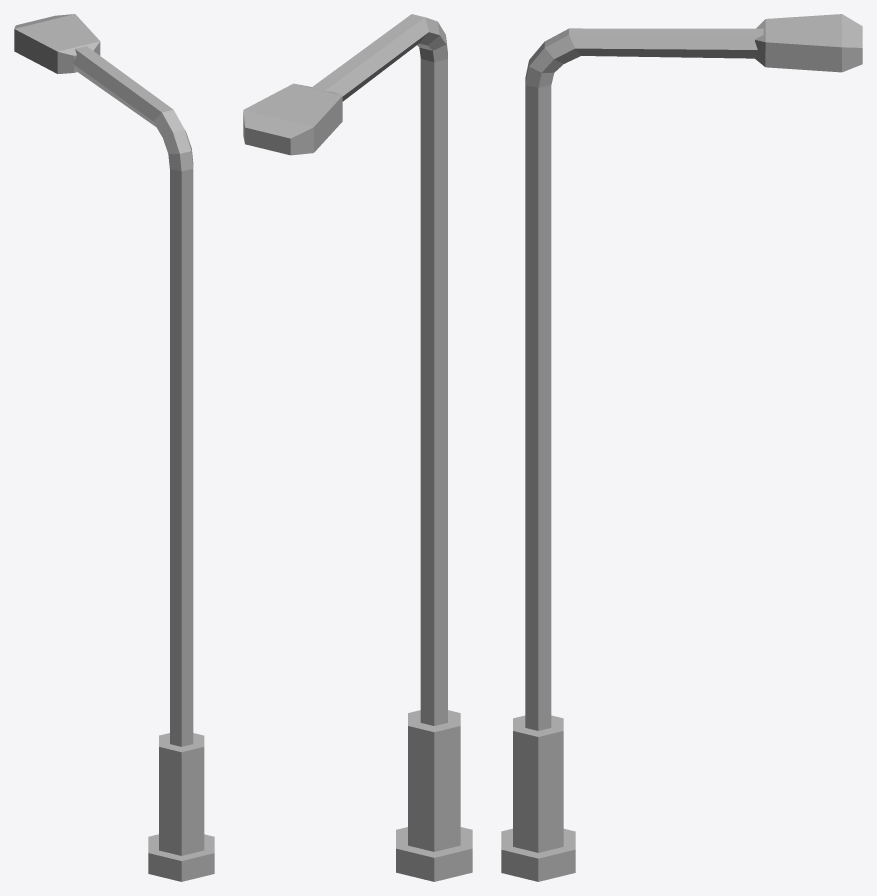
Rendered from Street Light.glb.
3 views of the same model, side by side, from view 1: azimuth 30°, elevation 25°; view 2: azimuth 150°, elevation 25°; view 3: azimuth 270°, elevation 25° (orthographic). The views are drawn at different scales.
Visible parts, largest first — view 1: Props_Street_Light; view 2: Props_Street_Light; view 3: Props_Street_Light.
Part boxes in pixels (x1,y1,x2,y2): Props_Street_Light: (14,14,214,881); Props_Street_Light: (243,14,472,881); Props_Street_Light: (501,14,862,881).
Size of the model in its own units: 1.14 by 12.2 by 4.8.
Materials: 1 (1 with a texture image).
